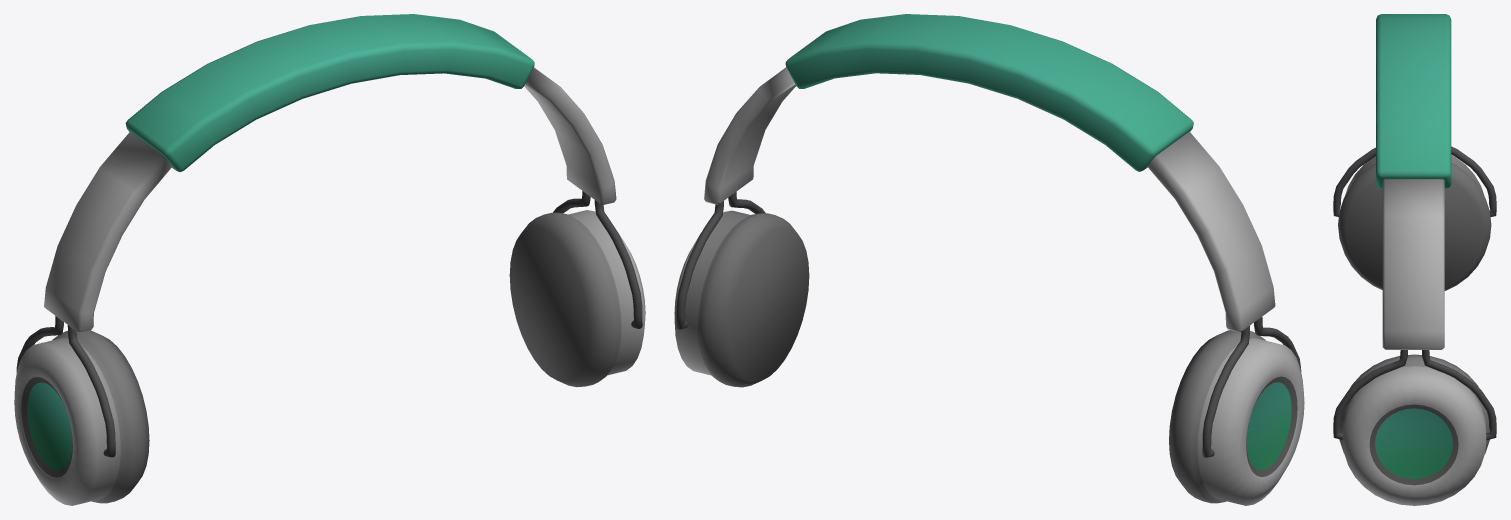
File: earphone5.fbx
The picture shows the model from 3 angles, left to right: view 1: azimuth 30°, elevation 25°; view 2: azimuth 150°, elevation 25°; view 3: azimuth 270°, elevation 25°; orthographic projection. The views are drawn at different scales.
Parts seen in each view (by area): view 1: Plane.005; view 2: Plane.005; view 3: Plane.005.
Boxes of the visible parts, <box> form: Plane.005: <box>14,14,645,505</box>; Plane.005: <box>674,14,1304,505</box>; Plane.005: <box>1333,14,1496,505</box>.
Size of the model in its own units: 88.17 by 304 by 206.
